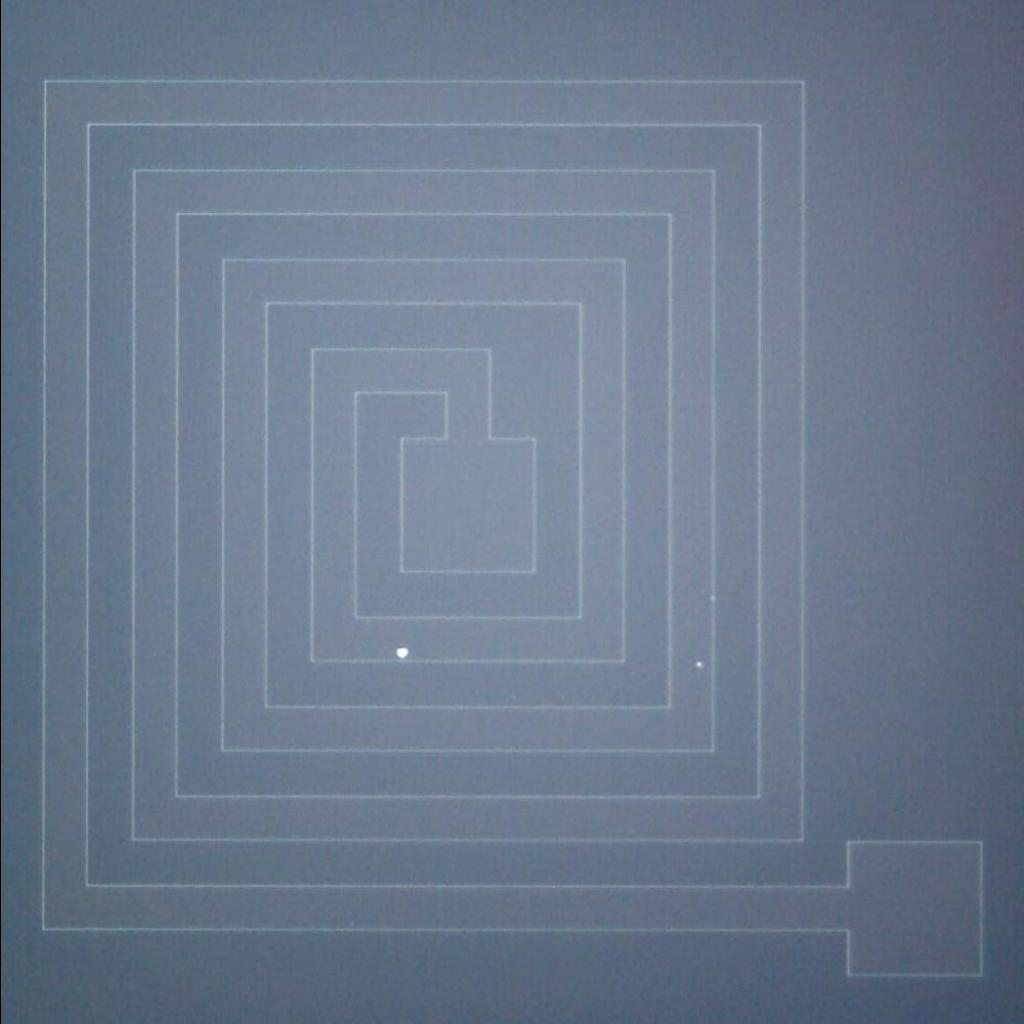dot: (682, 648, 712, 678)
spot: (388, 637, 420, 666)
